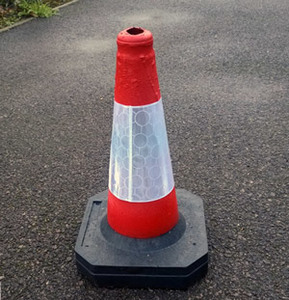cone: (75, 25, 211, 289)
